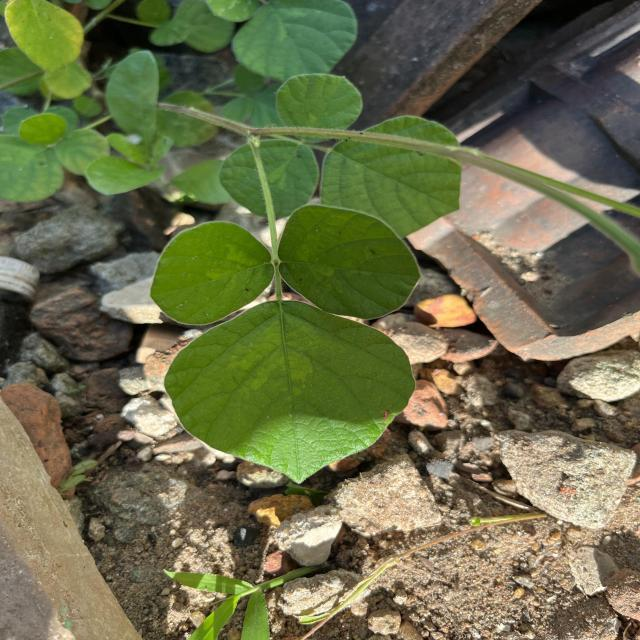Pseudarthria viscida: (148, 202, 426, 488)
